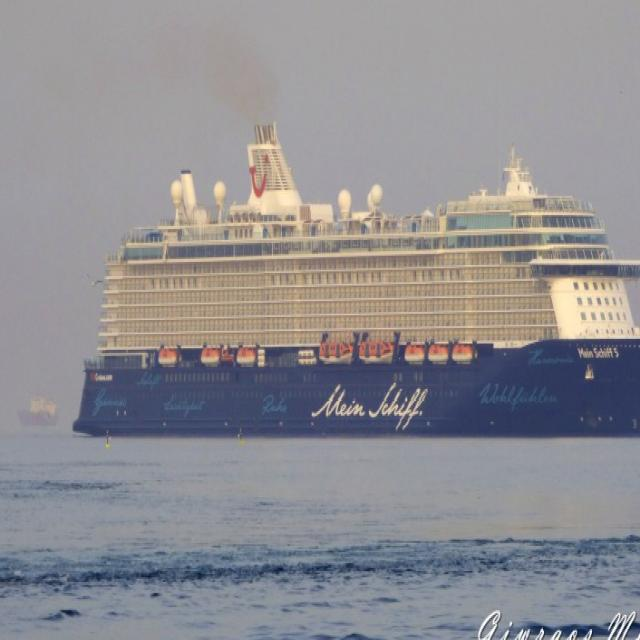cruises: (81, 136, 640, 442)
